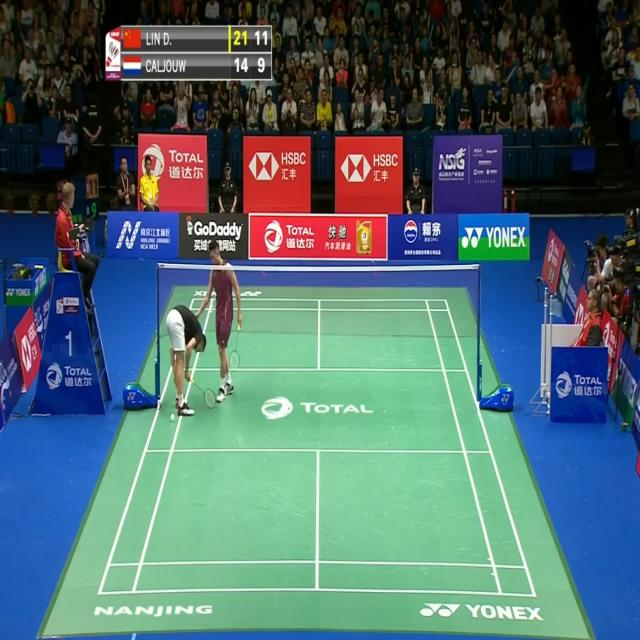Player1: (167, 299, 207, 417)
Player2: (204, 238, 243, 402)
